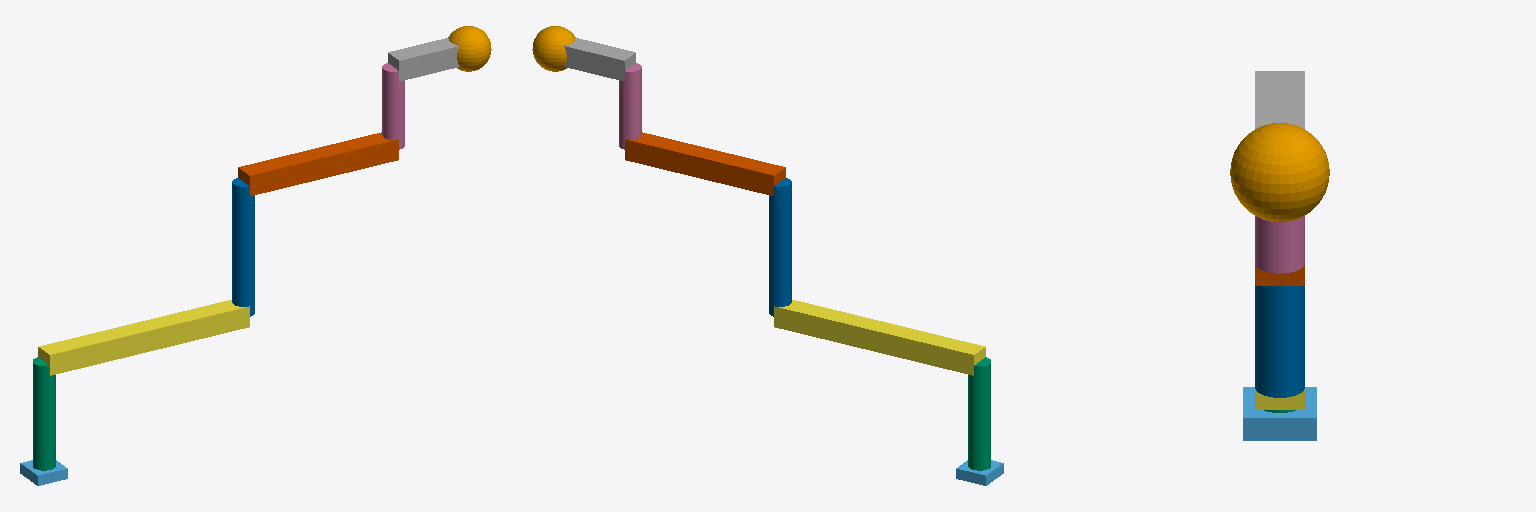
robot.urdf — hw3_scara:
<?xml version="1.0"?>
<robot name="hw3_scara">

  <link name="world"/>

  <link name="base_link">
    <visual>
      <origin xyz="0 0 0" rpy="0 0 0"/>
      <geometry>
        <mesh filename="package://ras545_hw3/meshes/base_link.stl" scale="0.001 0.001 0.001"/>
      </geometry>
    </visual>
    <collision>
      <origin xyz="0 0 0" rpy="0 0 0"/>
      <geometry>
        <mesh filename="package://ras545_hw3/meshes/base_link.stl" scale="0.001 0.001 0.001"/>
      </geometry>
    </collision>
    <inertial>
      <origin xyz="0 0 0" rpy="0 0 0"/>
      <mass value="0.565200"/>
      <inertia ixx="0.000002" ixy="0.000000" ixz="0.000000"
              iyy="0.000002" iyz="0.000000" izz="0.000003"/>
    </inertial>
  </link>

  <link name="motor_1">
    <visual>
      <origin xyz="0 0 0" rpy="0 0 0"/>
      <geometry>
        <mesh filename="package://ras545_hw3/meshes/motor_1.stl" scale="0.001 0.001 0.001"/>
      </geometry>
    </visual>
    <collision>
      <origin xyz="0 0 0" rpy="0 0 0"/>
      <geometry>
        <mesh filename="package://ras545_hw3/meshes/motor_1.stl" scale="0.001 0.001 0.001"/>
      </geometry>
    </collision>
    <inertial>
      <origin xyz="0 0 0" rpy="0 0 0"/>
      <mass value="1.972920"/>
      <inertia ixx="0.000265" ixy="0.000000" ixz="0.000000"
              iyy="0.000265" iyz="0.000000" izz="0.000004"/>
    </inertial>
  </link>

  <link name="link_1">
    <visual>
      <origin xyz="0 0 -0.2" rpy="0 0 0"/>
      <geometry>
        <mesh filename="package://ras545_hw3/meshes/link_1.stl" scale="0.001 0.001 0.001"/>
      </geometry>
    </visual>
    <collision>
      <origin xyz="0 0 -0.2" rpy="0 0 0"/>
      <geometry>
        <mesh filename="package://ras545_hw3/meshes/link_1.stl" scale="0.001 0.001 0.001"/>
      </geometry>
    </collision>
    <inertial>
      <origin xyz="0 0 -0.2" rpy="0 0 0"/>
      <mass value="4.826708"/>
      <inertia ixx="0.001944" ixy="0.000000" ixz="-0.001927"
               iyy="0.004465" iyz="0.000000" izz="0.002535"/>
    </inertial>
  </link>

  <link name="motor_2">
    <visual>
      <origin xyz="-0.4 0 -0.2" rpy="0 0 0"/>
      <geometry>
        <mesh filename="package://ras545_hw3/meshes/motor_2.stl" scale="0.001 0.001 0.001"/>
      </geometry>
    </visual>
    <collision>
      <origin xyz="-0.4 0 -0.2" rpy="0 0 0"/>
      <geometry>
        <mesh filename="package://ras545_hw3/meshes/motor_2.stl" scale="0.001 0.001 0.001"/>
      </geometry>
    </collision>
    <inertial>
      <origin xyz="-0.4 0 -0.2" rpy="0 0 0"/>
      <mass value="2.466150"/>
      <inertia ixx="0.002736" ixy="0.000000" ixz="-0.003206"
               iyy="0.006682" iyz="0.000000" izz="0.003951"/>
    </inertial>
  </link>

  <link name="link_2">
    <visual>
      <origin xyz="-0.4 0 -0.45" rpy="0 0 0"/>
      <geometry>
        <mesh filename="package://ras545_hw3/meshes/link_2.stl" scale="0.001 0.001 0.001"/>
      </geometry>
    </visual>
    <collision>
      <origin xyz="-0.4 0 -0.45" rpy="0 0 0"/>
      <geometry>
        <mesh filename="package://ras545_hw3/meshes/link_2.stl" scale="0.001 0.001 0.001"/>
      </geometry>
    </collision>
    <inertial>
      <origin xyz="-0.4 0 -0.45" rpy="0 0 0"/>
      <mass value="3.570708"/>
      <inertia ixx="0.007240" ixy="0.000000" ixz="-0.008835"
               iyy="0.018280" iyz="-0.000000" izz="0.011049"/>
    </inertial>
  </link>

  <link name="motor_3">
    <visual>
      <origin xyz="-0.7 0 -0.45" rpy="0 0 0"/>
      <geometry>
        <mesh filename="package://ras545_hw3/meshes/motor_3.stl" scale="0.001 0.001 0.001"/>
      </geometry>
    </visual>
    <collision>
      <origin xyz="-0.7 0 -0.45" rpy="0 0 0"/>
      <geometry>
        <mesh filename="package://ras545_hw3/meshes/motor_3.stl" scale="0.001 0.001 0.001"/>
      </geometry>
    </collision>
    <inertial>
      <origin xyz="-0.7 0 -0.45" rpy="0 0 0"/>
      <mass value="1.479690"/>
      <inertia ixx="0.004108" ixy="-0.000000" ixz="-0.005438"
               iyy="0.011358" iyz="-0.000000" izz="0.007253"/>
    </inertial>
  </link>

  <link name="link_3">
    <visual>
      <origin xyz="-0.7 0 -0.6" rpy="0 0 0"/>
      <geometry>
        <mesh filename="package://ras545_hw3/meshes/link_3.stl" scale="0.001 0.001 0.001"/>
      </geometry>
    </visual>
    <collision>
      <origin xyz="-0.7 0 -0.6" rpy="0 0 0"/>
      <geometry>
        <mesh filename="package://ras545_hw3/meshes/link_3.stl" scale="0.001 0.001 0.001"/>
      </geometry>
    </collision>
    <inertial>
      <origin xyz="-0.7 0 -0.6" rpy="0 0 0"/>
      <mass value="1.785354"/>
      <inertia ixx="0.006444" ixy="0.000000" ixz="-0.008348"
               iyy="0.017297" iyz="0.000000" izz="0.010858"/>
    </inertial>
  </link>

  <link name="ee_link">
    <visual>
      <origin xyz="0 0 0" rpy="0 0 0"/>
      <geometry>
        <sphere radius="0.04"/>
      </geometry>
    </visual>
    <collision>
      <origin xyz="0 0 0" rpy="0 0 0"/>
      <geometry>
        <sphere radius="0.04"/>
      </geometry>
    </collision>
  </link>

  <joint name="joint0_fixed" type="fixed">
    <origin xyz="0 0 0" rpy="0 0 0"/>
    <parent link="world"/>
    <child link="base_link"/>
  </joint>

  <joint name="joint1_fixed" type="fixed">
    <origin xyz="0 0 0" rpy="0 0 0"/>
    <parent link="base_link"/>
    <child link="motor_1"/>
  </joint>

  <joint name="joint2_revolute" type="continuous">
    <origin xyz="0 0 0.2" rpy="0 0 0"/>
    <parent link="motor_1"/>
    <child link="link_1"/>
    <axis xyz="0 0 1"/>
  </joint>

  <joint name="joint3_fixed" type="fixed">
    <origin xyz="0.4 0 0.0" rpy="0 0 0"/>
    <parent link="link_1"/>
    <child link="motor_2"/>
  </joint>

  <joint name="joint4_revolute" type="continuous">
    <origin xyz="0.0 0 0.25" rpy="0 0 0"/>
    <parent link="motor_2"/>
    <child link="link_2"/>
    <axis xyz="0 0 1"/>
  </joint>

  <joint name="joint5_fixed" type="fixed">
    <origin xyz="0.3 0 0.0" rpy="0 0 0"/>
    <parent link="link_2"/>
    <child link="motor_3"/>
  </joint>

  <joint name="joint6_revolute" type="continuous">
    <origin xyz="0.0 0 0.15" rpy="0 0 0"/>
    <parent link="motor_3"/>
    <child link="link_3"/>
    <axis xyz="0 0 1"/>
  </joint>

  <joint name="joint7_fixed" type="fixed">
    <origin xyz="0.15 0 0" rpy="0 0 0"/>
    <parent link="link_3"/>
    <child link="ee_link"/>
  </joint>

</robot>

--- What the picture shows (computed from the rendered views, not written in the file) ---
The picture shows the robot from 3 angles, left to right: view 1: azimuth 30°, elevation 25°; view 2: azimuth 150°, elevation 25°; view 3: azimuth 270°, elevation 25°; orthographic projection.
Model hw3_scara with 9 links and 8 joints (3 continuous, 5 fixed), rooted at world, posed all joints at 0.
Visible links, largest first — view 1: link_1, link_2, motor_2, motor_1, link_3, motor_3, ee_link, base_link; view 2: link_1, link_2, motor_2, motor_1, link_3, motor_3, ee_link, base_link; view 3: ee_link, motor_2, base_link, link_3, motor_3, link_2, link_1.
Boxes of the visible links, x1,y1,x2,y2 form: link_1: (38,300,249,375); link_2: (238,132,398,195); motor_2: (232,178,254,316); motor_1: (33,357,55,470); link_3: (388,38,459,81); motor_3: (382,63,404,149); ee_link: (448,26,491,71); base_link: (20,460,67,485); link_1: (774,300,985,375); link_2: (625,132,785,195); motor_2: (769,178,791,316); motor_1: (968,357,990,470); link_3: (564,38,635,81); motor_3: (619,63,641,149); ee_link: (532,26,575,71); base_link: (956,460,1003,485); ee_link: (1230,123,1329,221); motor_2: (1255,286,1304,397); base_link: (1243,387,1316,440); link_3: (1255,71,1304,128); motor_3: (1255,216,1304,273); link_2: (1255,265,1304,285); link_1: (1255,389,1304,409).
Size in the robot's own frame: 0.92 by 0.08 by 0.66 metres.
Meshes: 7 distinct files referenced, 7 mesh visuals loaded (7 binary STL).
